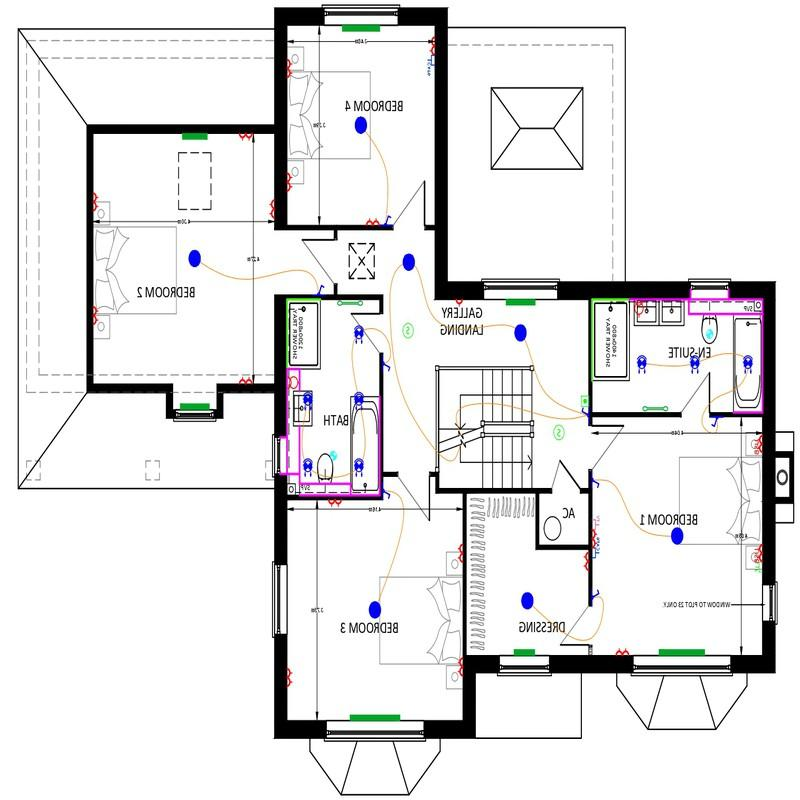Cat 6 Data Socket: (417, 54, 435, 78), (592, 544, 607, 566)
Ceiling Mounted Continuous Extract Fan With Boost Mode Activated By Light Switch: (325, 441, 343, 468), (701, 325, 724, 346)
Co-Ax TV Socket: (592, 513, 606, 530)
Double Socket: (91, 294, 112, 340), (224, 131, 258, 146), (419, 27, 436, 55), (284, 52, 299, 83), (262, 194, 276, 227), (286, 163, 298, 200), (91, 185, 104, 218), (453, 650, 464, 686), (359, 210, 384, 225), (287, 664, 300, 692), (231, 373, 261, 385), (325, 497, 350, 510), (454, 537, 464, 569), (580, 548, 589, 579), (589, 529, 603, 547), (611, 644, 630, 655)
Full Height Tiling: (585, 295, 628, 382), (285, 295, 330, 368)
Light Switch: (309, 278, 331, 295), (381, 352, 395, 378), (382, 203, 397, 224), (709, 413, 725, 432), (382, 483, 395, 506), (575, 404, 587, 426), (590, 587, 602, 608), (592, 474, 603, 493)
Low Energy Downlighter: (350, 315, 369, 348), (685, 352, 705, 381), (741, 352, 758, 381), (352, 453, 368, 483), (351, 391, 370, 416), (299, 454, 318, 479), (301, 389, 318, 416), (636, 351, 650, 377)
Low Energy Pendant Light: (517, 584, 542, 615), (349, 109, 373, 141), (400, 247, 421, 275), (511, 321, 532, 346), (667, 527, 691, 547), (186, 245, 204, 271), (366, 598, 388, 619)
Mains Wired Smoke Detector: (399, 315, 419, 347), (552, 420, 568, 450)
Programmable Room Thermostat: (577, 390, 589, 409)
Radiator: (170, 129, 216, 148), (336, 24, 385, 38), (347, 712, 407, 722), (650, 647, 712, 655), (501, 299, 544, 310), (506, 645, 545, 656), (178, 398, 213, 410)
Shaver Socket: (630, 297, 651, 320), (285, 374, 309, 391)
Single Socket: (451, 297, 472, 312)
Telephone Socket: (750, 559, 762, 577)
USB Double Socket: (752, 433, 763, 460), (753, 540, 762, 561)
